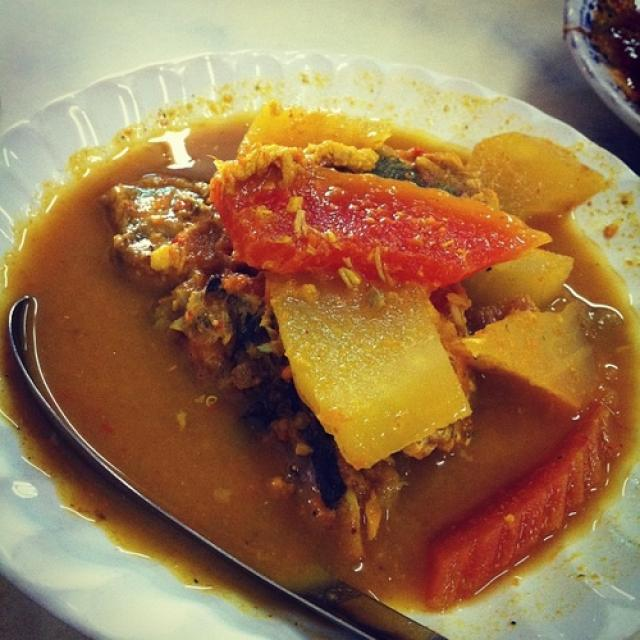汤锅炖物: (23, 82, 630, 599)
